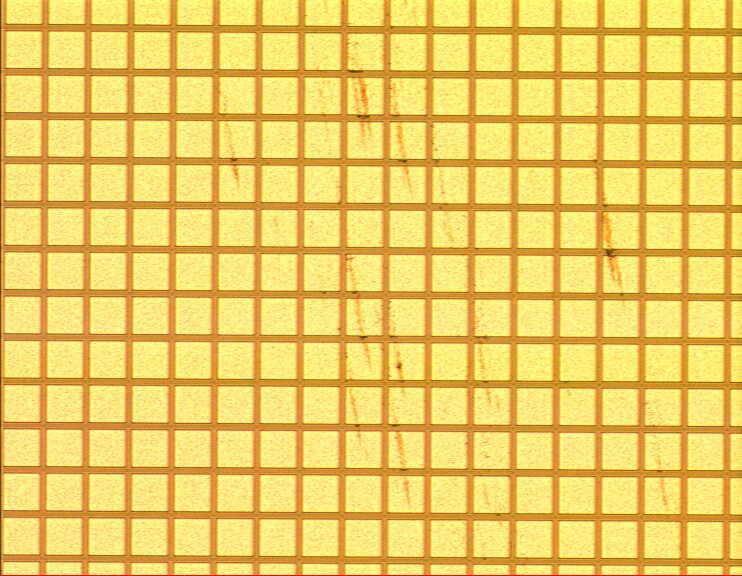SCRATCH: (196, 1, 697, 549)
